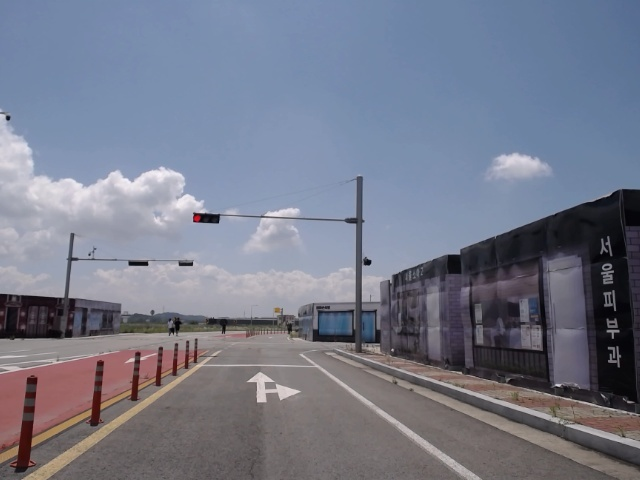red_3: (192, 212, 220, 224)
